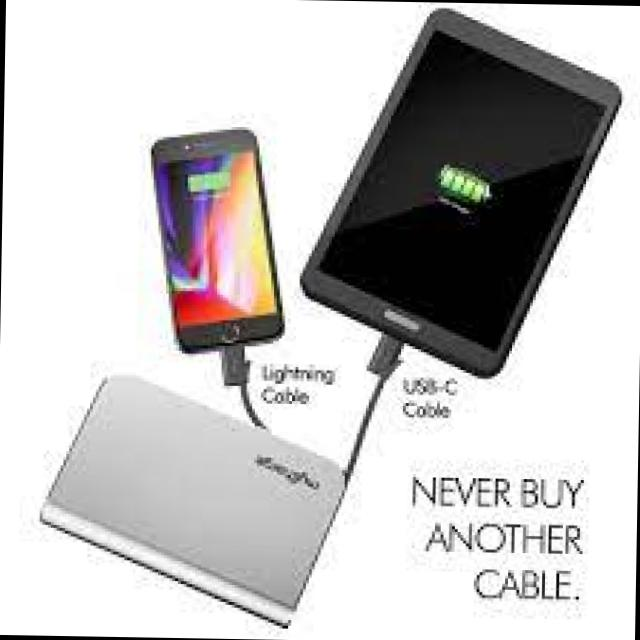portable-charger: (32, 370, 350, 630)
